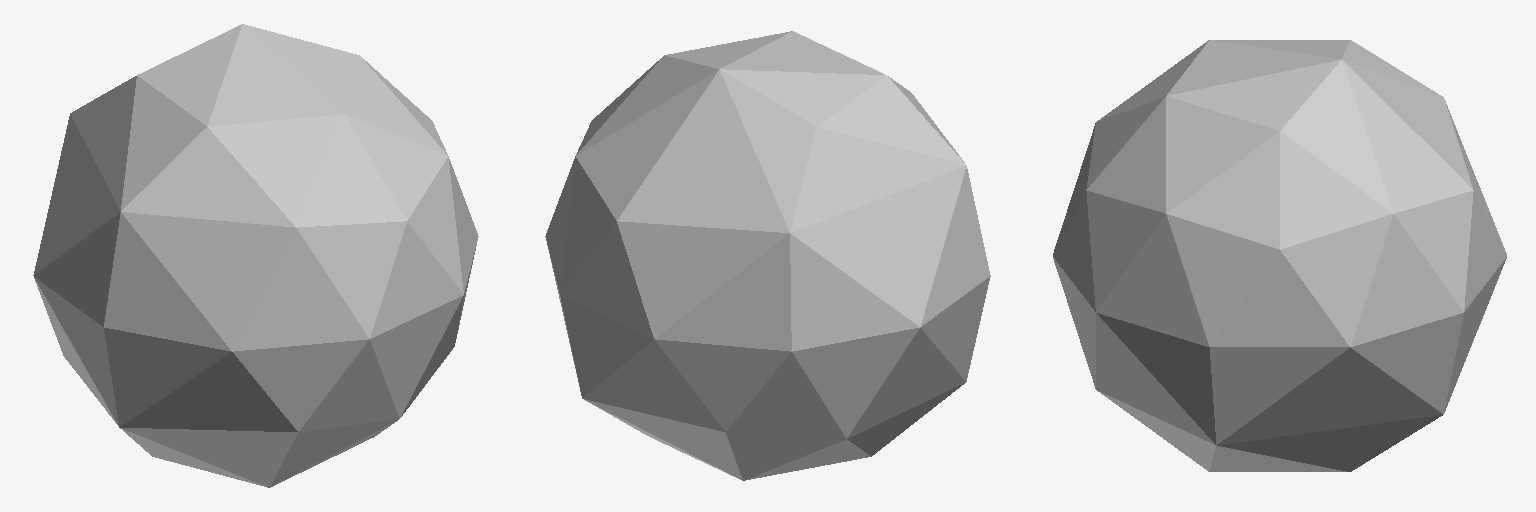
File: ico.obj
The picture shows the model from 3 angles: view 1: azimuth 30°, elevation 25°; view 2: azimuth 150°, elevation 25°; view 3: azimuth 270°, elevation 25°; orthographic projection.
Visible parts, largest first — view 1: Icosphere; view 2: Icosphere; view 3: Icosphere.
Part boxes in pixels (bbox=[...]): Icosphere: bbox=[33, 24, 478, 487]; Icosphere: bbox=[545, 31, 990, 480]; Icosphere: bbox=[1053, 40, 1506, 471].
Size of the model in its own units: 1.9 by 1.99 by 2.